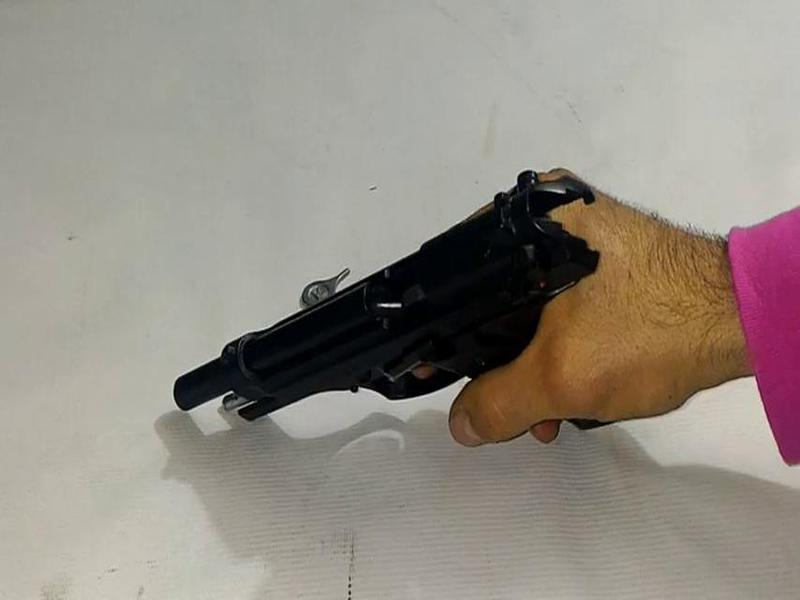Pistola: (143, 147, 686, 484)
